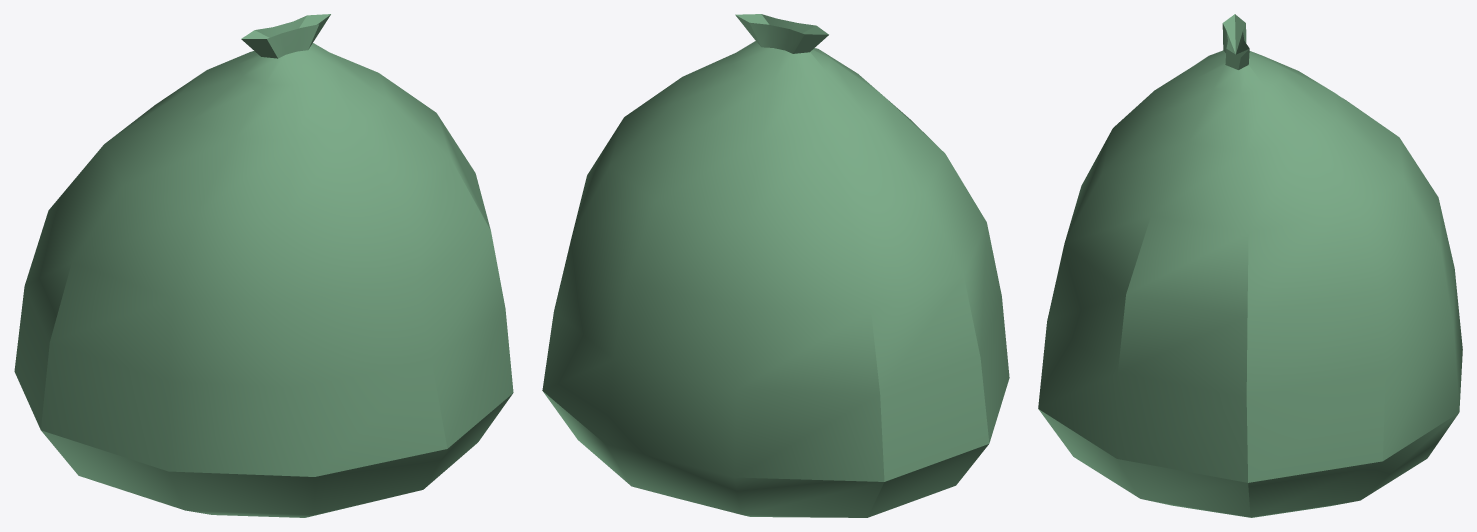
File: garbageBag.fbx
3 renders of one model, left to right at view 1: azimuth 30°, elevation 25°; view 2: azimuth 150°, elevation 25°; view 3: azimuth 270°, elevation 25°, orthographic. The views are drawn at different scales.
Parts seen in each view (by area): view 1: garbageBag1; view 2: garbageBag1; view 3: garbageBag1.
Part boxes in pixels (x1,y1,x2,y2): garbageBag1: (14,14,513,517); garbageBag1: (542,14,1009,517); garbageBag1: (1038,14,1462,517).
Size of the model in its own units: 2.16 by 2.13 by 1.86.
